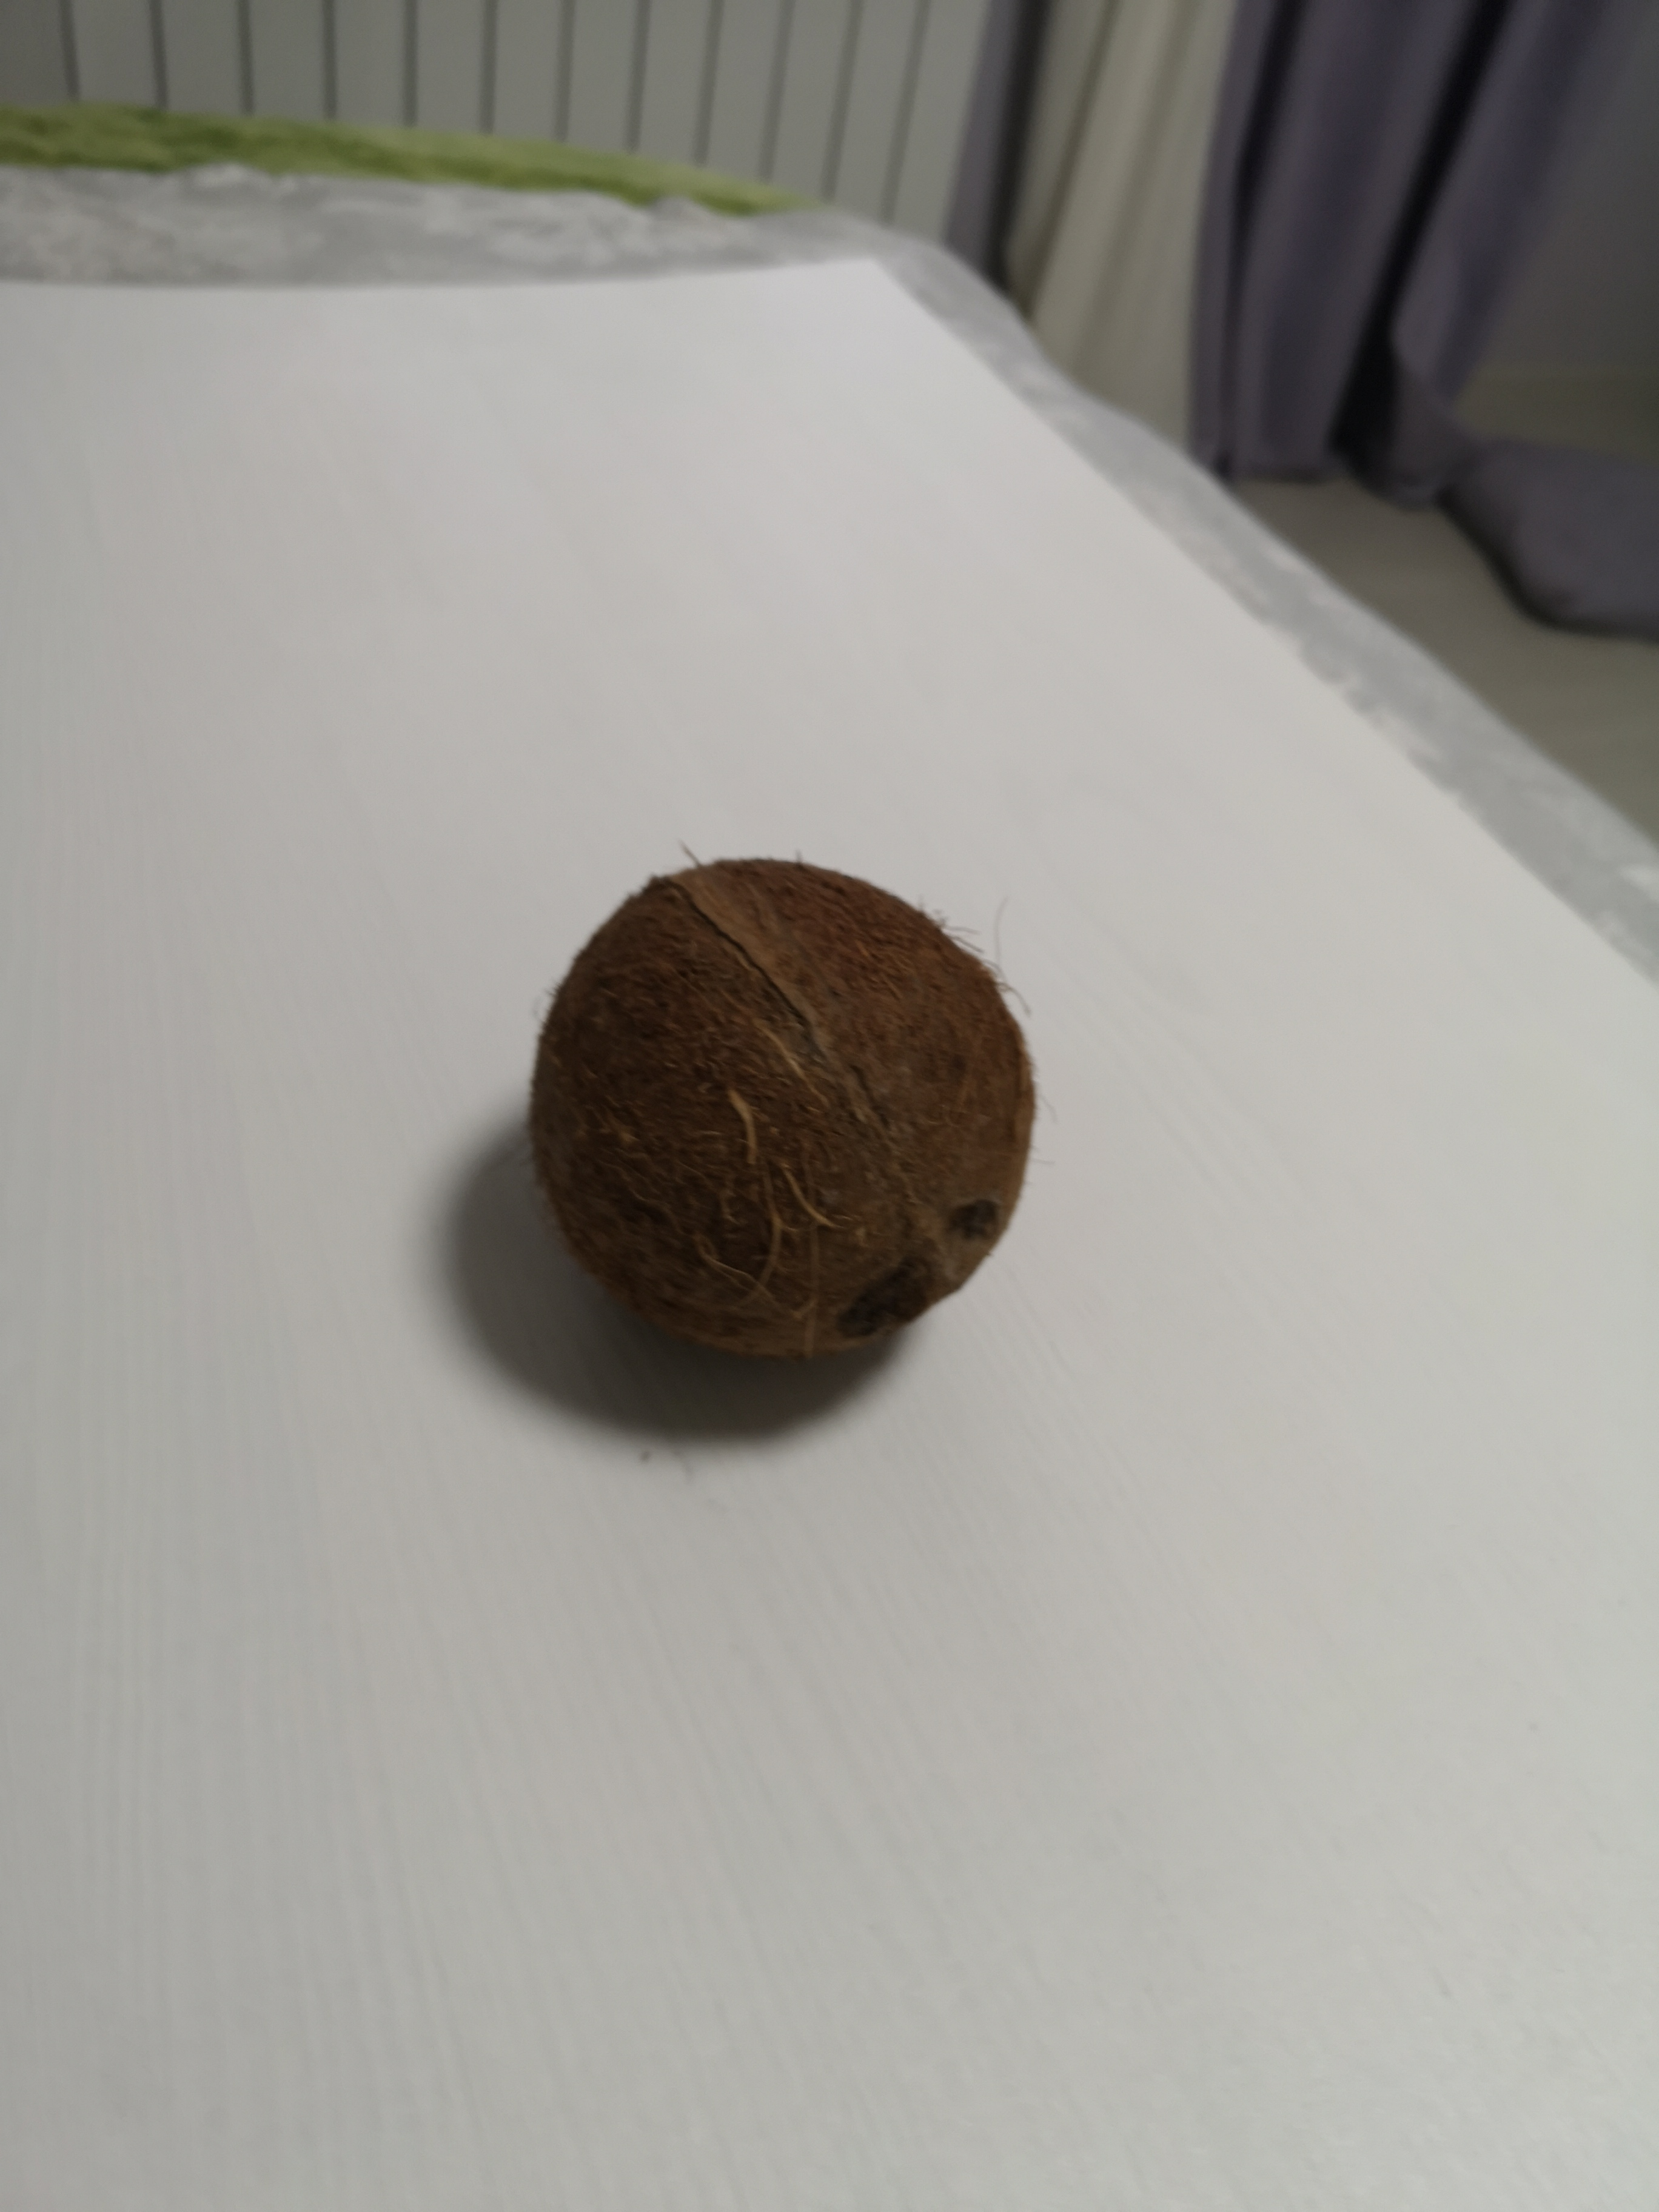coconut: (523, 853, 1047, 1367)
